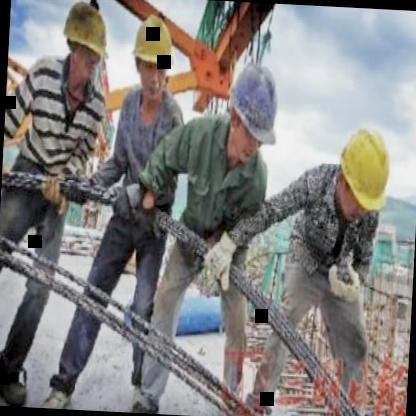helmet: (332, 116, 398, 230), (221, 53, 280, 162), (55, 0, 115, 101), (128, 7, 178, 104)
